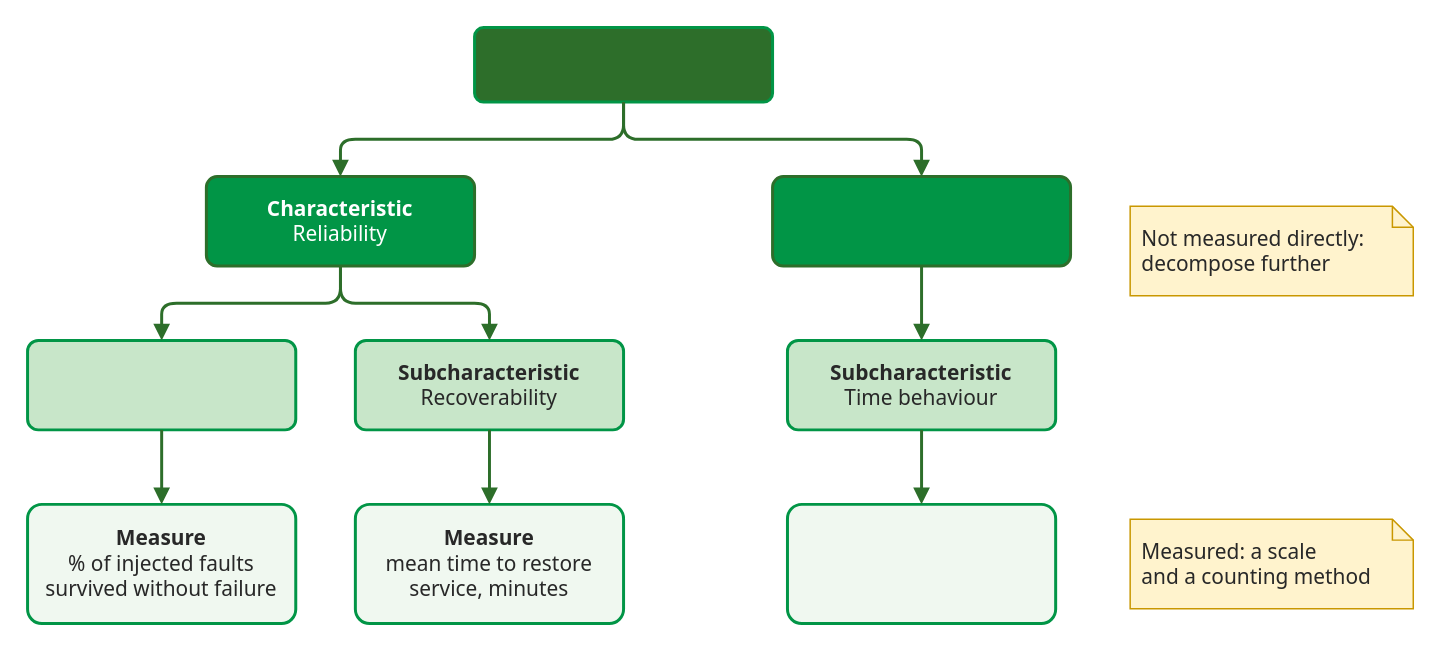
This 1439x650 diagram has some shape labels left out. The centre of each missing label's shape, as x and y in pixels:
"Characteristic Performance efficiency" belongs at [920,220].
"Measure 95th-percentile response time, ms" belongs at [920,563].
"Quality model" belongs at [622,64].
"Subcharacteristic Fault tolerance" belongs at [161,384].
